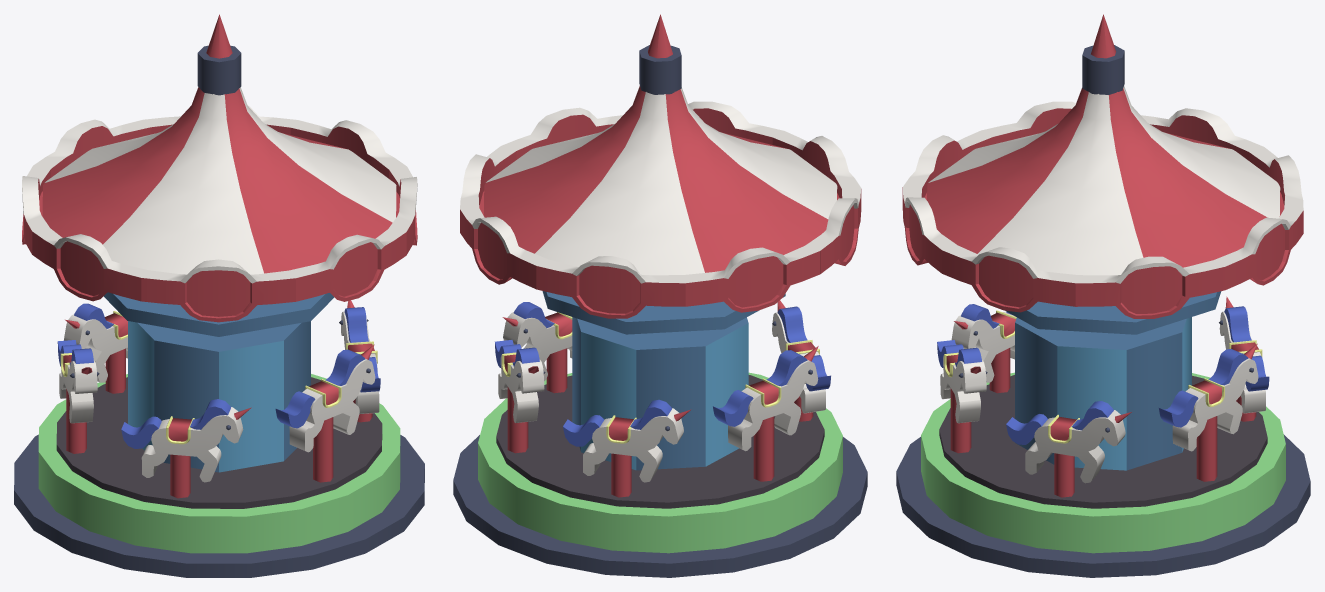
Rendered from Carousel_Base (2).fbx.
The picture shows the model from 3 angles, left to right: view 1: azimuth 30°, elevation 25°; view 2: azimuth 150°, elevation 25°; view 3: azimuth 270°, elevation 25°; orthographic projection.
Parts seen in each view (by area): view 1: Carousel_Base1; view 2: Carousel_Base1; view 3: Carousel_Base1.
Part boxes in pixels (x1,y1,x2,y2): Carousel_Base1: [14, 14, 424, 577]; Carousel_Base1: [453, 14, 867, 577]; Carousel_Base1: [896, 14, 1310, 577].
Bounding box in the file's own units: 5.57 × 7.16 × 5.57.
